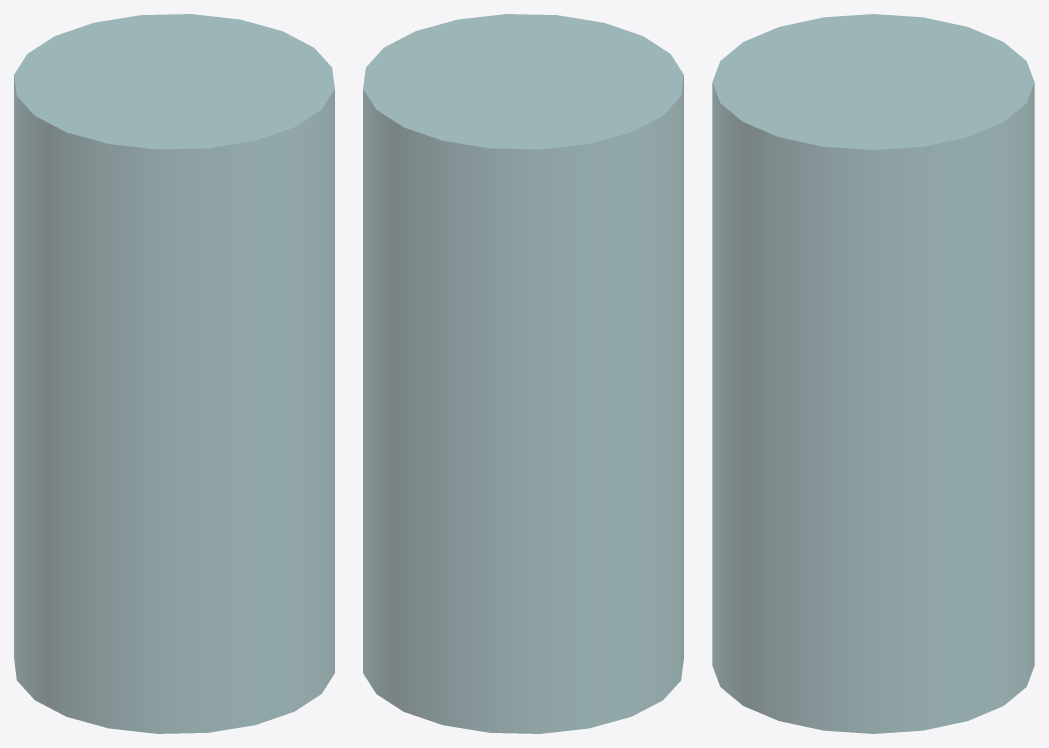
File: entity108402.glb
The picture shows the model from 3 angles, left to right: view 1: azimuth 30°, elevation 25°; view 2: azimuth 150°, elevation 25°; view 3: azimuth 270°, elevation 25°; orthographic projection.
Visible parts, largest first — view 1: node_Cylinder (1); view 2: node_Cylinder (1); view 3: node_Cylinder (1).
Part boxes in pixels (x1,y1,x2,y2): node_Cylinder (1): (14, 14, 334, 733); node_Cylinder (1): (363, 14, 683, 733); node_Cylinder (1): (712, 14, 1034, 733).
Size of the model in its own units: 1 by 2 by 1.
